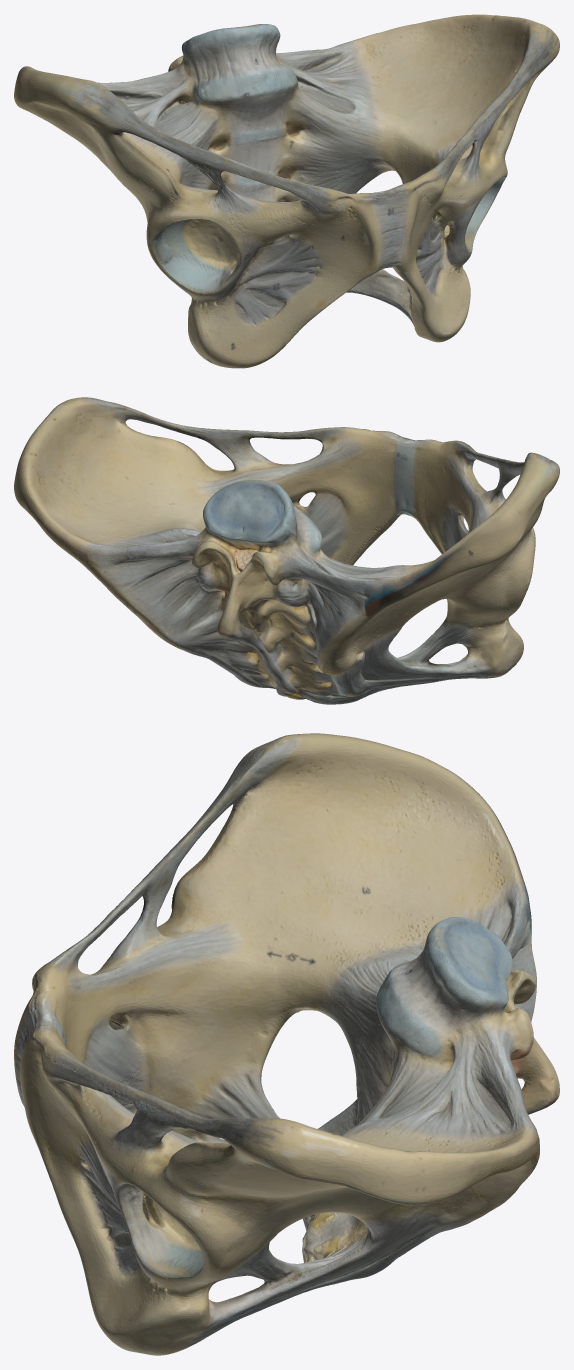
The model's file is Pelvis.obj.
3 renders of one model, top to bottom at view 1: azimuth 30°, elevation 25°; view 2: azimuth 150°, elevation 25°; view 3: azimuth 270°, elevation 25°, orthographic. The views are drawn at different scales.
Visible parts, largest first — view 1: Sharp Fusion 1; view 2: Sharp Fusion 1; view 3: Sharp Fusion 1.
Part boxes in pixels (left/top/right/bottom): Sharp Fusion 1: left=14, top=14, right=559, bottom=368; Sharp Fusion 1: left=14, top=397, right=559, bottom=704; Sharp Fusion 1: left=14, top=733, right=559, bottom=1355.
Bounding box in the file's own units: 303 × 171 × 206.
1 material, 1 textured.
